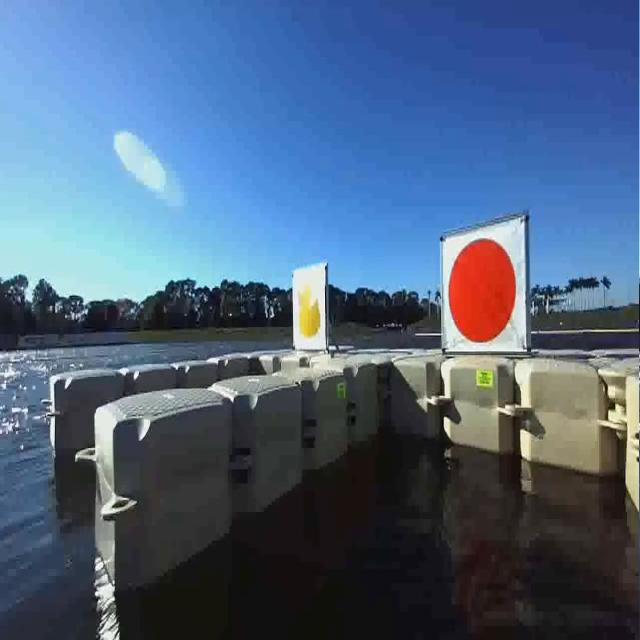red-dot: (441, 235, 526, 348)
yellow-duck: (293, 273, 331, 351)
